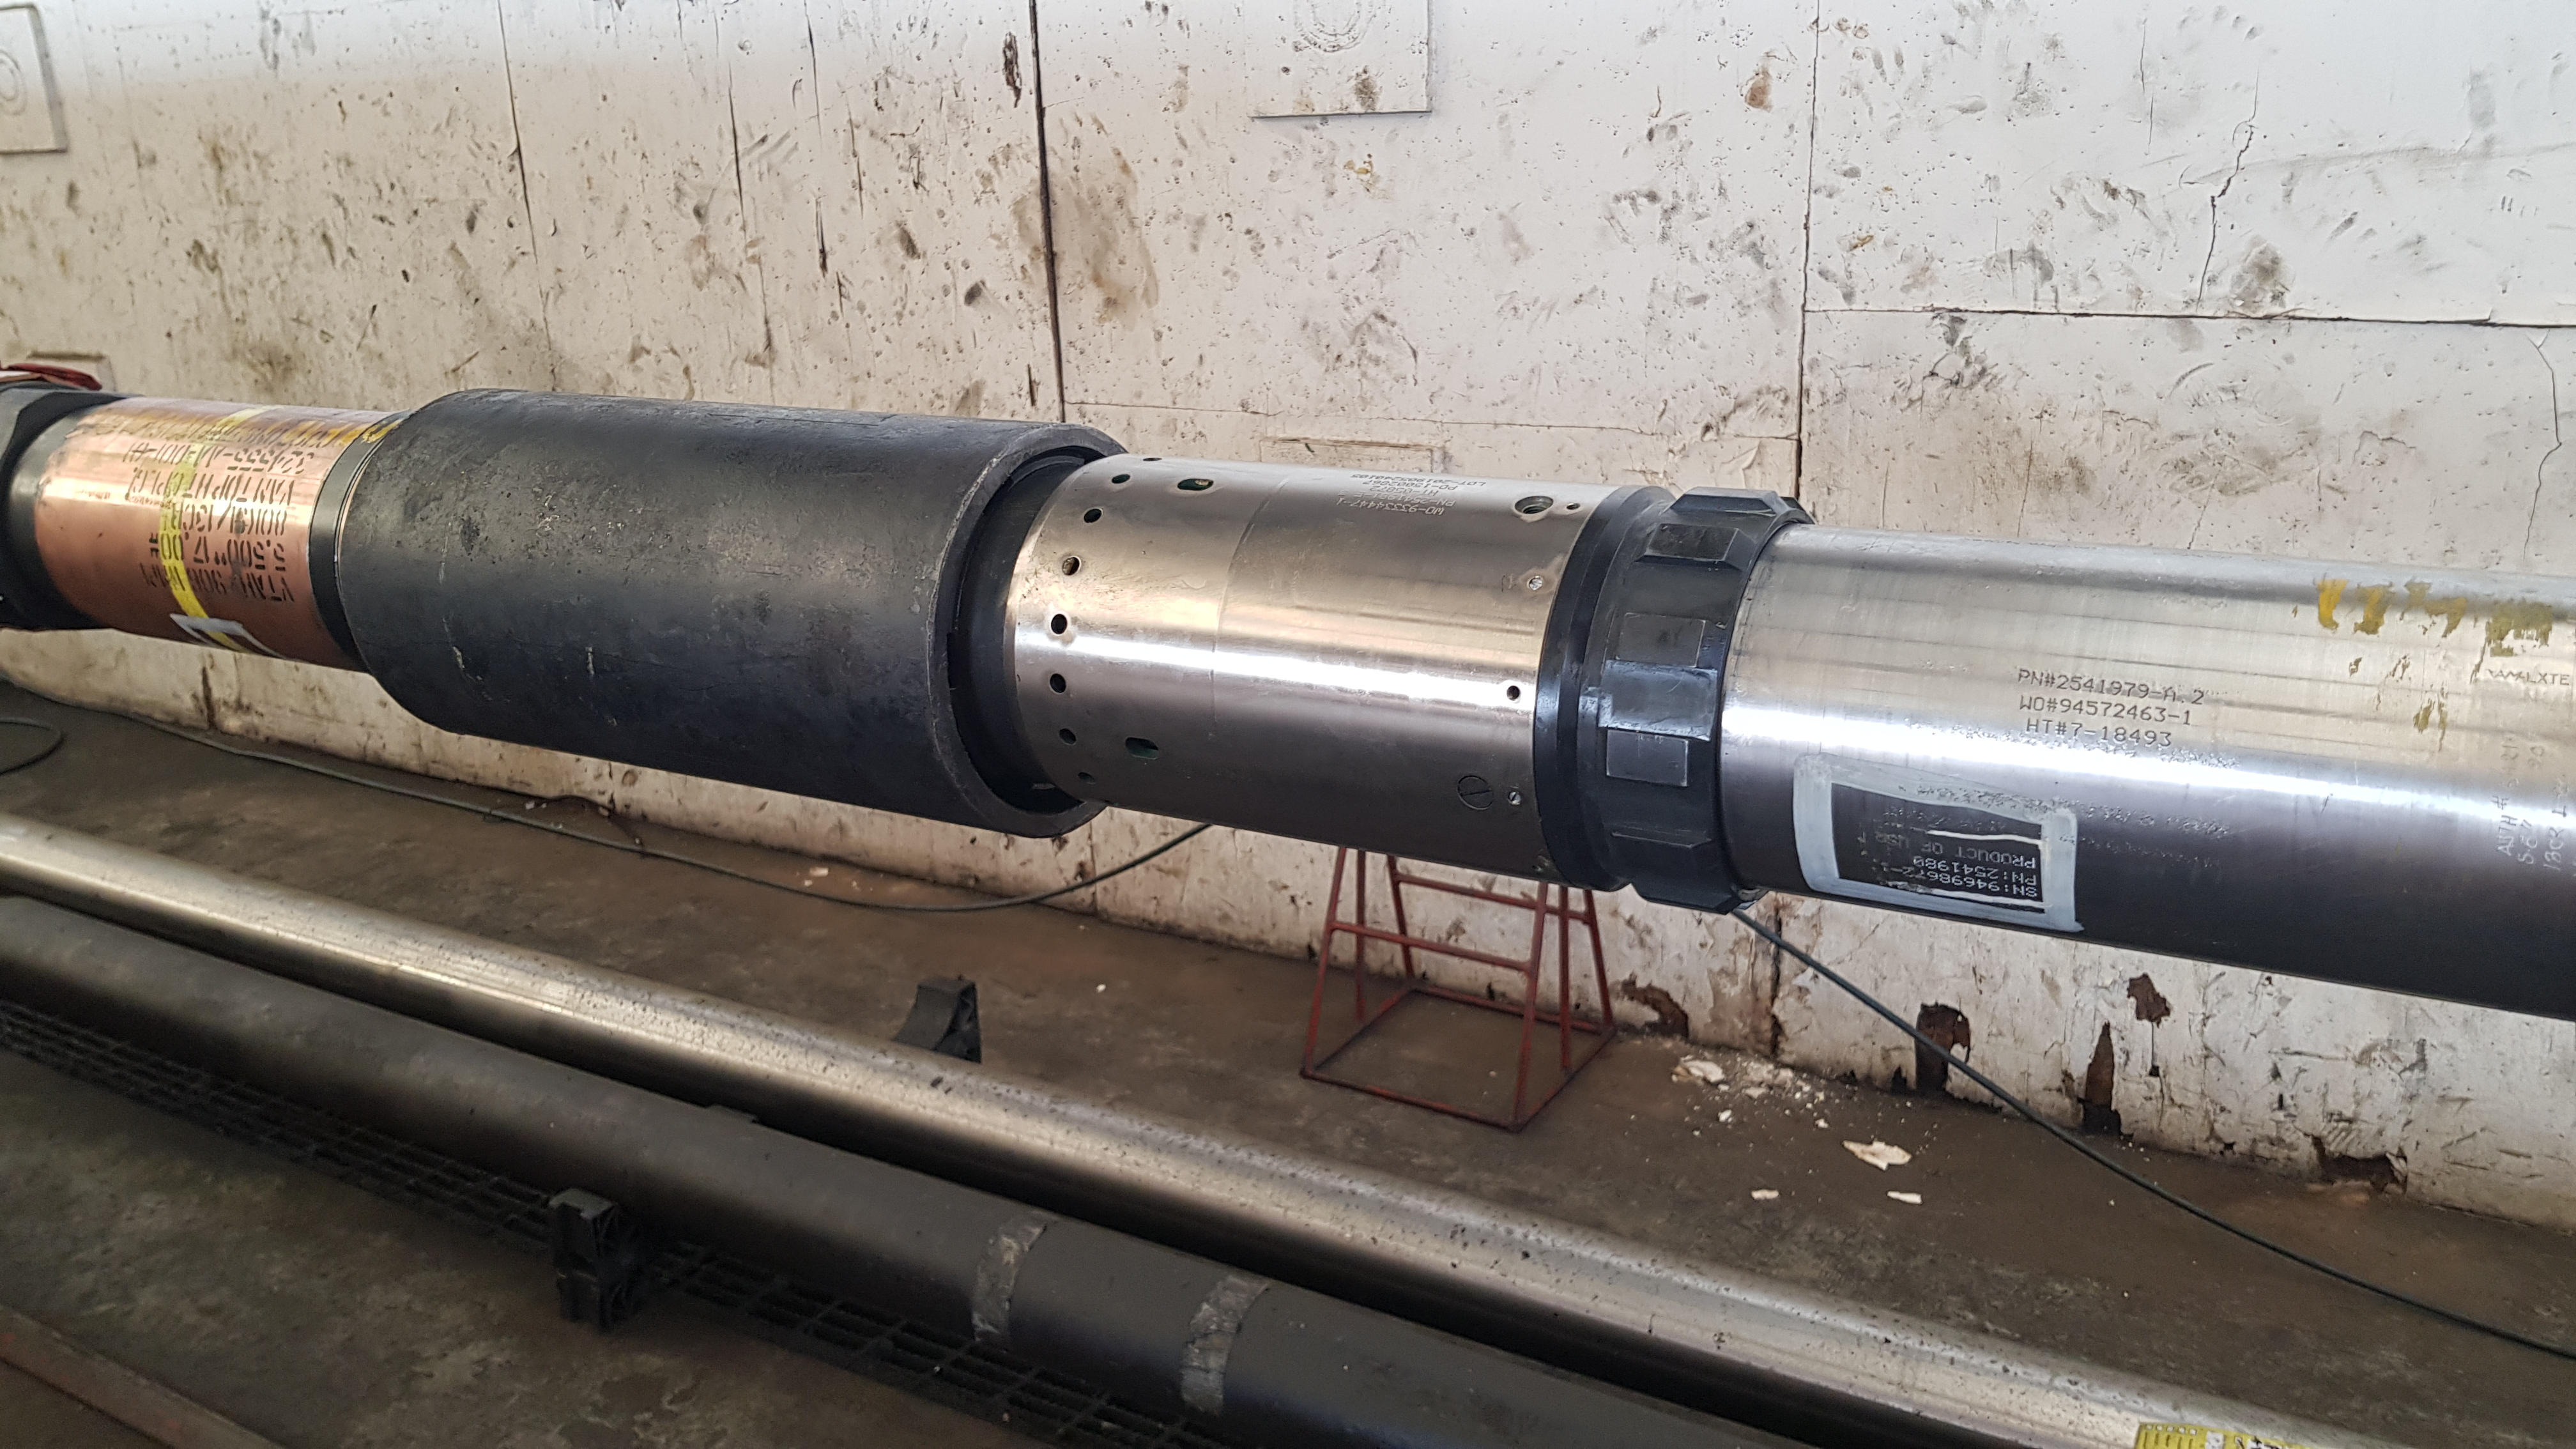character: (2180, 709, 2197, 729), (2111, 701, 2127, 722), (2158, 729, 2174, 750), (2013, 669, 2029, 688), (2029, 669, 2045, 688), (2107, 679, 2123, 699), (2192, 688, 2208, 708), (2155, 706, 2171, 725), (2043, 672, 2059, 690), (2024, 717, 2040, 734), (2054, 720, 2070, 738), (2143, 729, 2158, 747), (2068, 674, 2082, 694), (2084, 676, 2098, 695), (2123, 679, 2137, 699), (2137, 681, 2151, 701), (2139, 704, 2153, 724), (2068, 720, 2082, 740), (2112, 725, 2127, 745), (2125, 704, 2141, 720), (2054, 674, 2068, 692), (2164, 685, 2178, 702), (2019, 694, 2033, 711), (2033, 694, 2047, 711), (2084, 699, 2098, 717), (2097, 676, 2109, 695), (2047, 695, 2059, 713), (2100, 701, 2112, 718), (2040, 718, 2052, 736), (2128, 727, 2141, 745), (2059, 697, 2072, 713), (2072, 699, 2084, 715), (2100, 725, 2111, 743)
